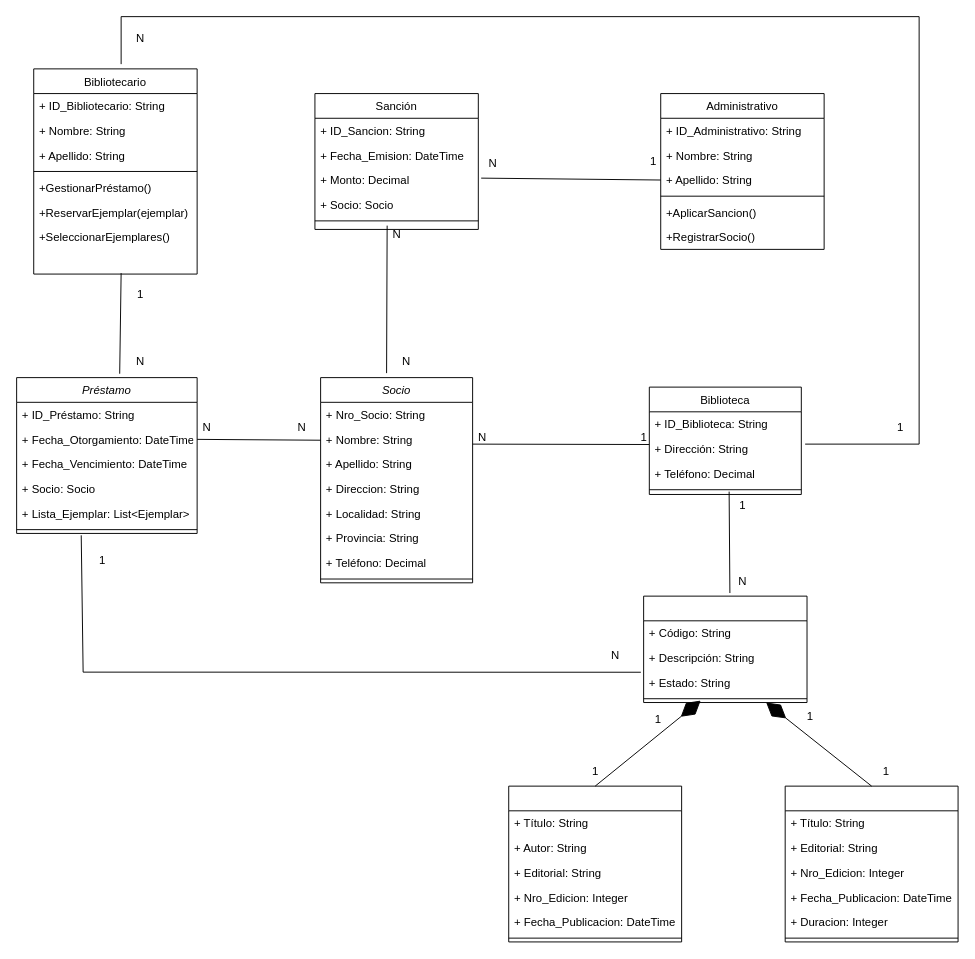
The diagram is 975 pixels wide and 959 high, and some of its shapes have lost their labels. Here are the shapes that lost their labels. From the top down, the box of each, then its label:
(643, 595, 807, 703): Ejemplar
(508, 785, 682, 942): Libro
(784, 785, 958, 942): Película
